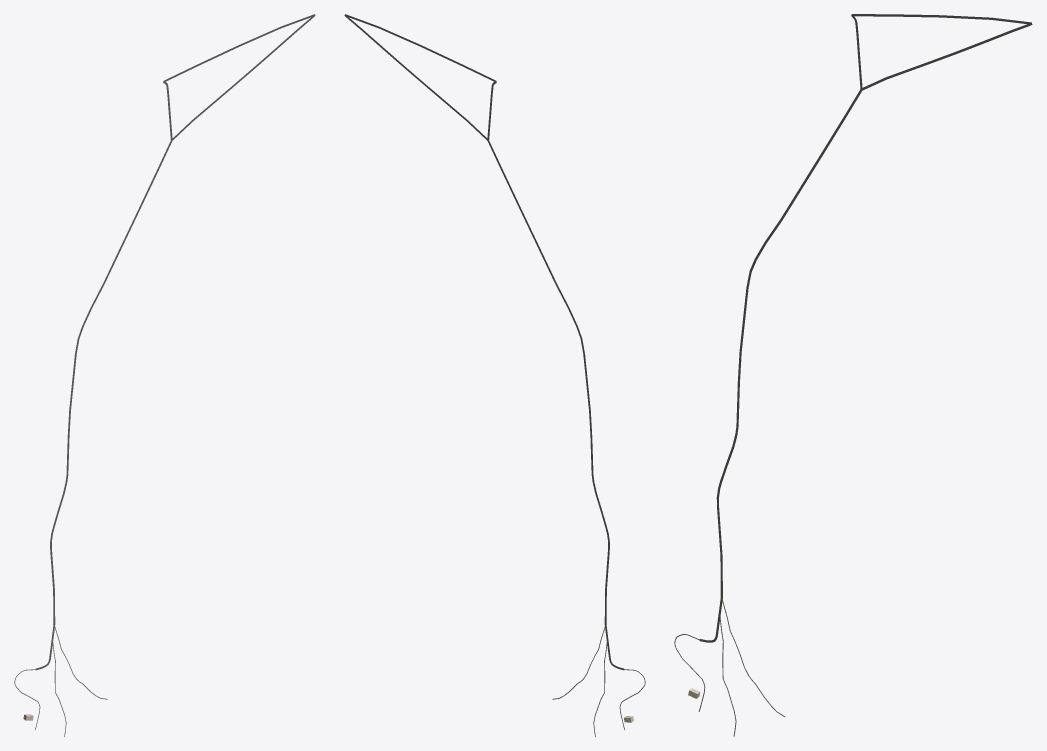
The model's file is madaba_3574_3175.glb.
3 renders of one model, left to right at view 1: azimuth 30°, elevation 25°; view 2: azimuth 150°, elevation 25°; view 3: azimuth 330°, elevation 25°, orthographic. The views are drawn at different scales.
Visible parts, largest first — view 1: Road .001; view 2: Road .001; view 3: Road .001.
Part boxes in pixels (x1,y1,x2,y2): Road .001: (50, 140, 172, 590); Road .001: (487, 140, 609, 590); Road .001: (716, 89, 861, 556).
Size of the model in its own units: 524 by 1100 by 8.7.
